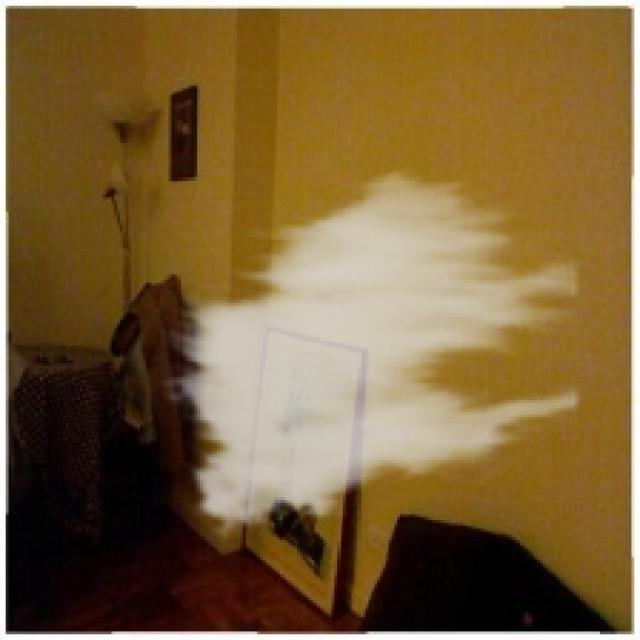smoke: (160, 160, 580, 546)
